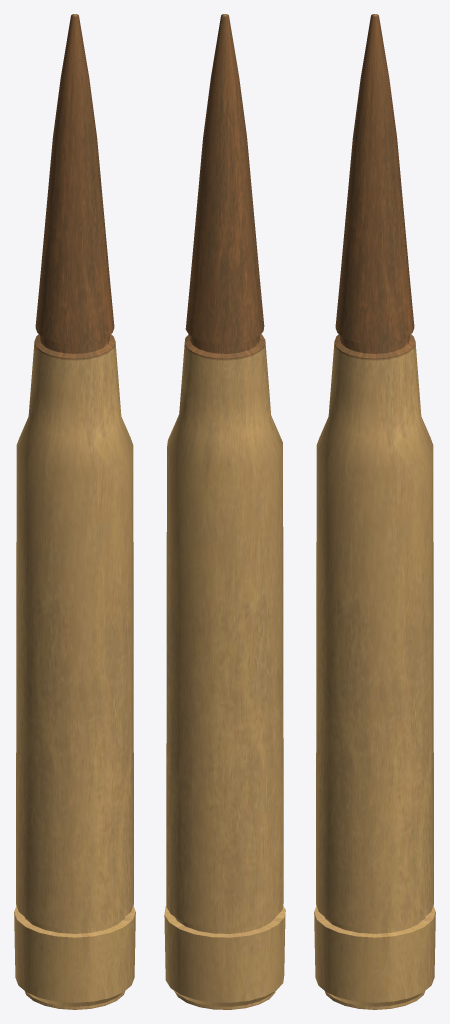
Rendered from SF_Bullet_Mesh.fbx.
3 views of the same model, side by side, from view 1: azimuth 90°, elevation 25°; view 2: azimuth 150°, elevation 25°; view 3: azimuth 270°, elevation 25° (orthographic).
Parts seen in each view (by area): view 1: Bullet; view 2: Bullet; view 3: Bullet.
Boxes of the visible parts, box(x1,y1,x2,y2) form: Bullet: box(14, 14, 135, 1009); Bullet: box(164, 14, 285, 1009); Bullet: box(314, 14, 435, 1009).
Size of the model in its own units: 4.58 by 40.47 by 4.58.
1 material, 1 textured.
